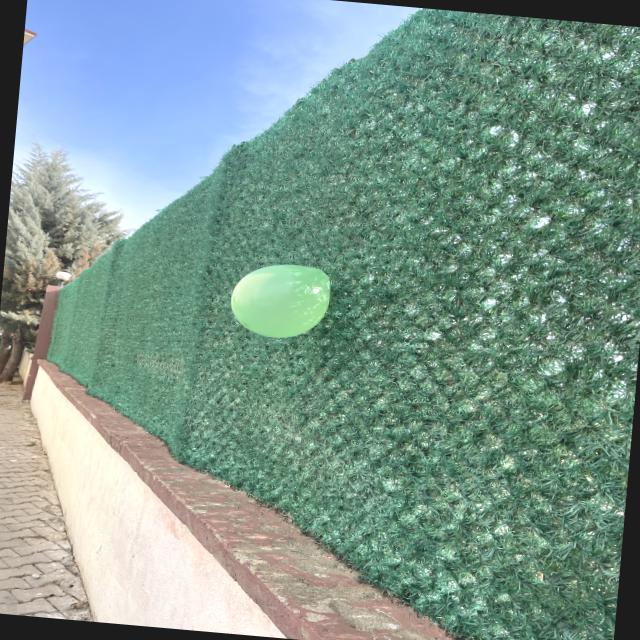balloon: (230, 264, 330, 337)
